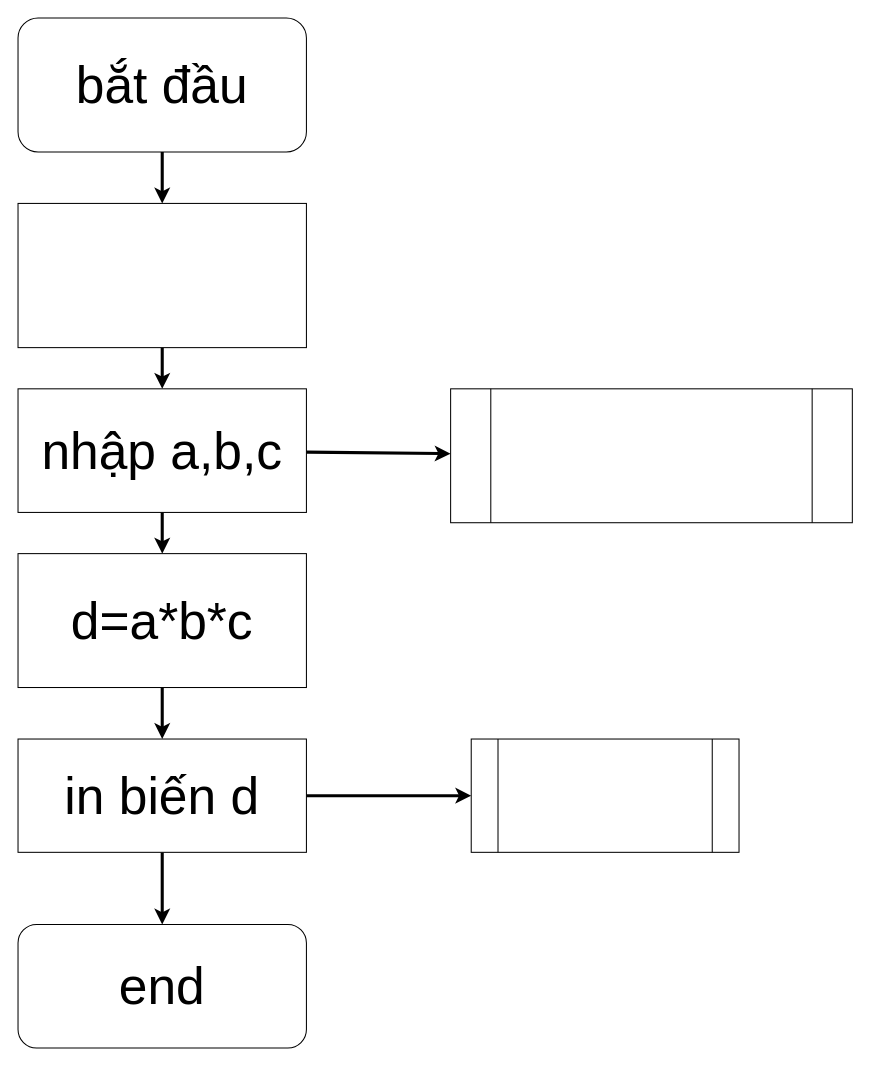
This 870x1066 diagram has some shape labels left out. Each missing label, with the box of its shape:
cin>>a>>b>>c: (450, 388, 852, 523)
cout<<d: (470, 738, 739, 852)
khai báo a,b,c,d: (17, 202, 306, 348)
